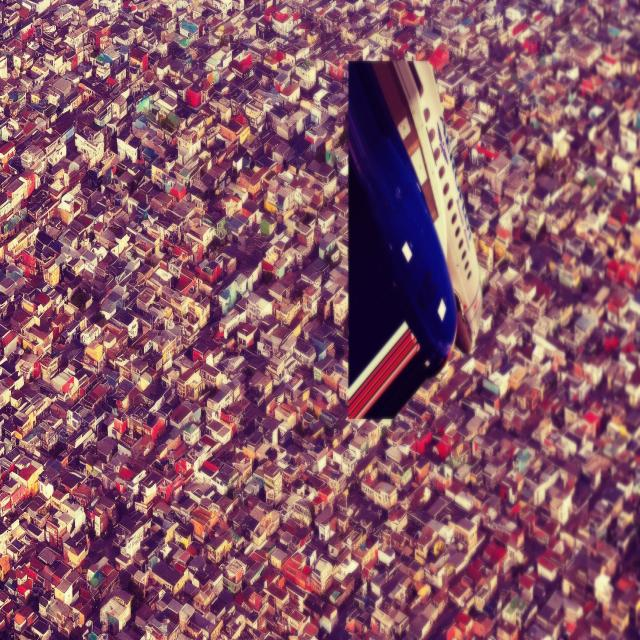airplane: (345, 57, 483, 421)
